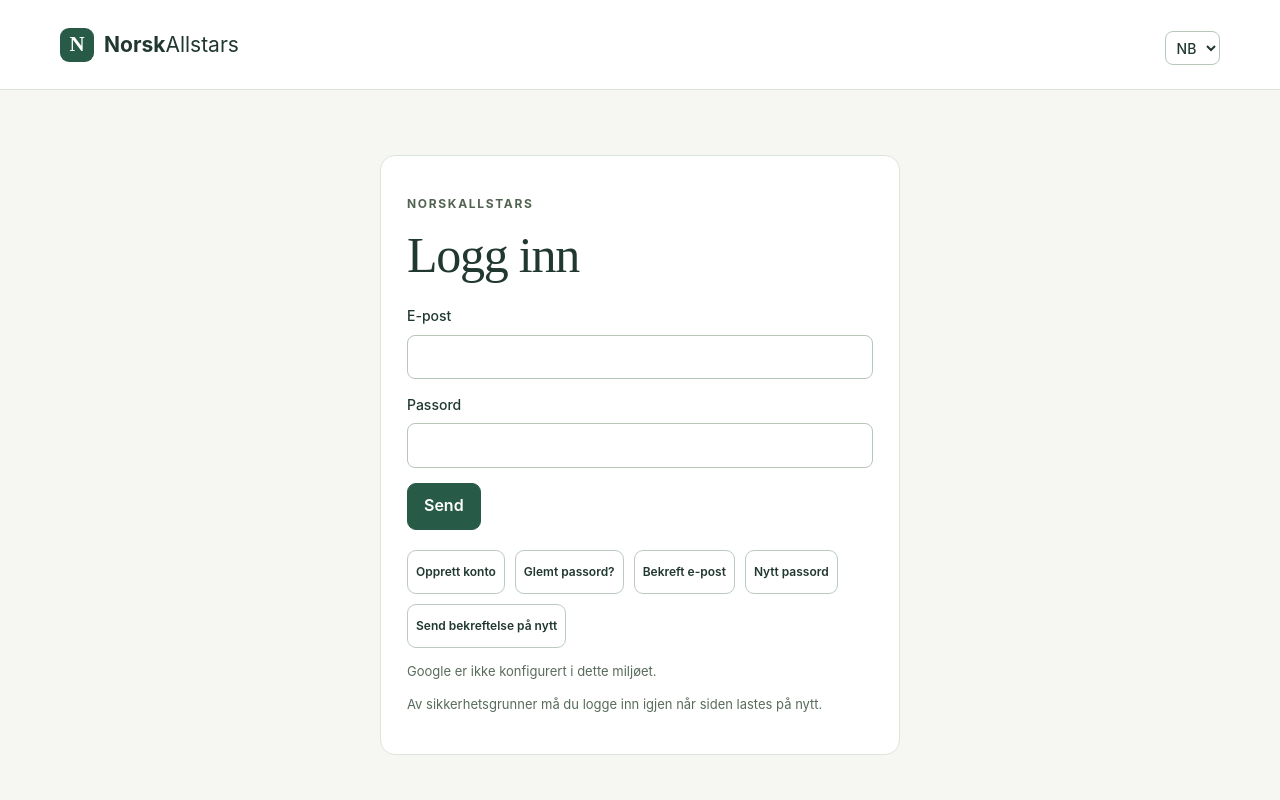
Test: dashboard learning-time presentation › shows 0 min for 59 recorded seconds (1 timed attempts)
This screenshot has width=1280, height=800.
Type "synthetic@example.com" into the field labelled "E-post" at (640, 357), box [407,335,873,379]
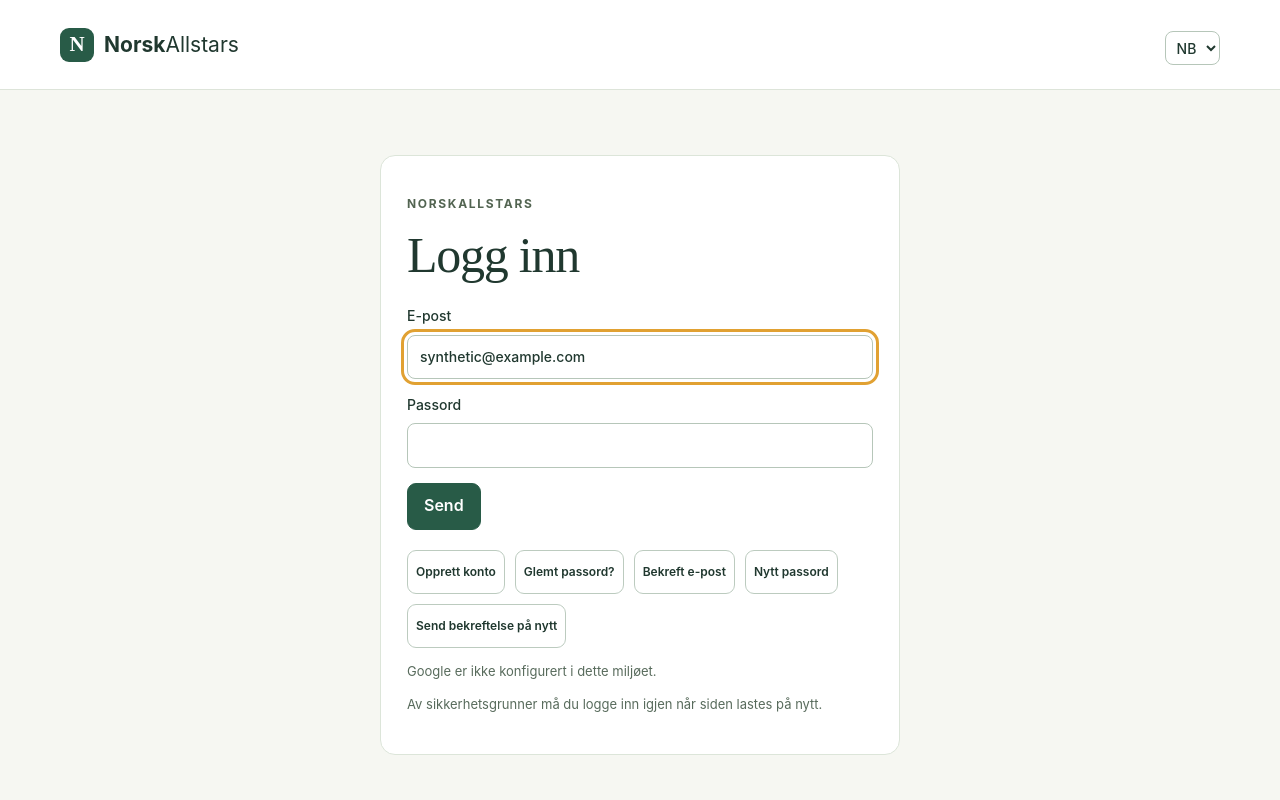
Type "synthetic-test-only-password" into the password field labelled "Passord" at (640, 446), box [407,423,873,468]
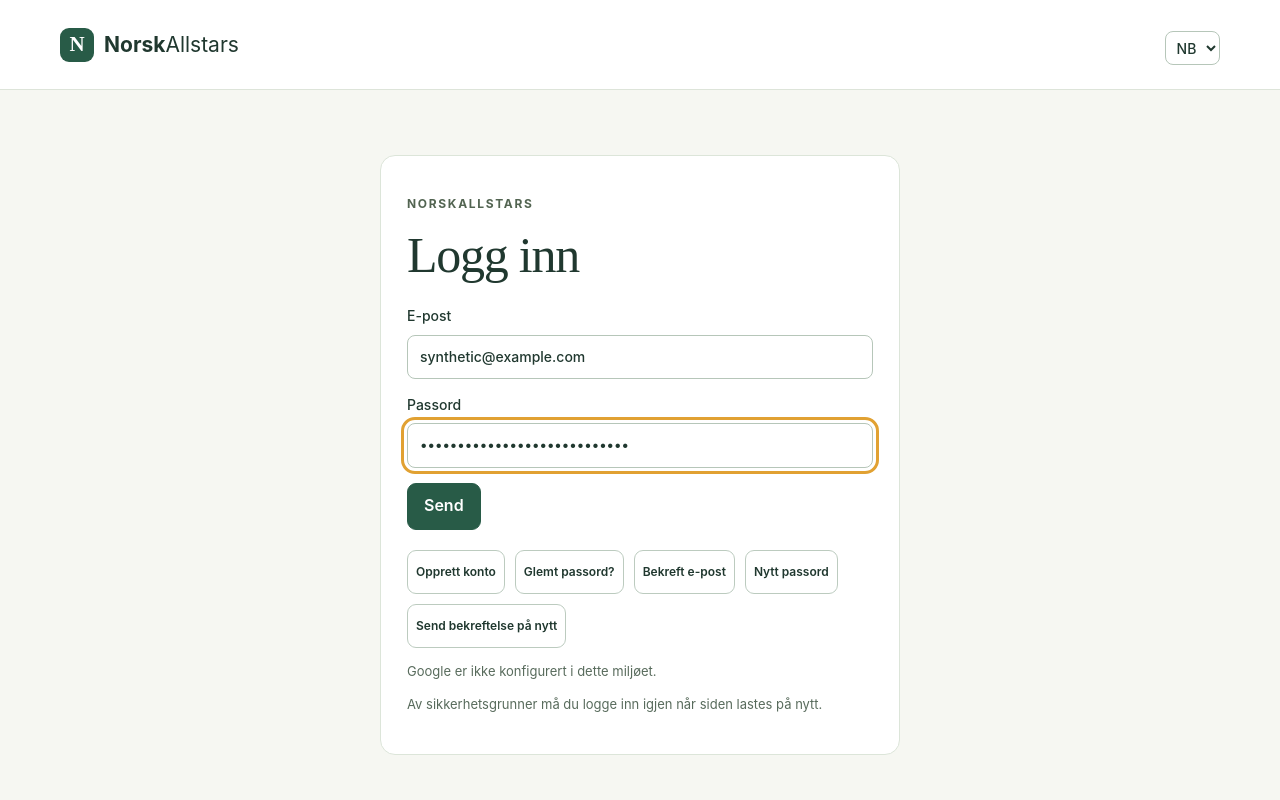
Click the button "Send" at (444, 506), box [407,483,481,530]
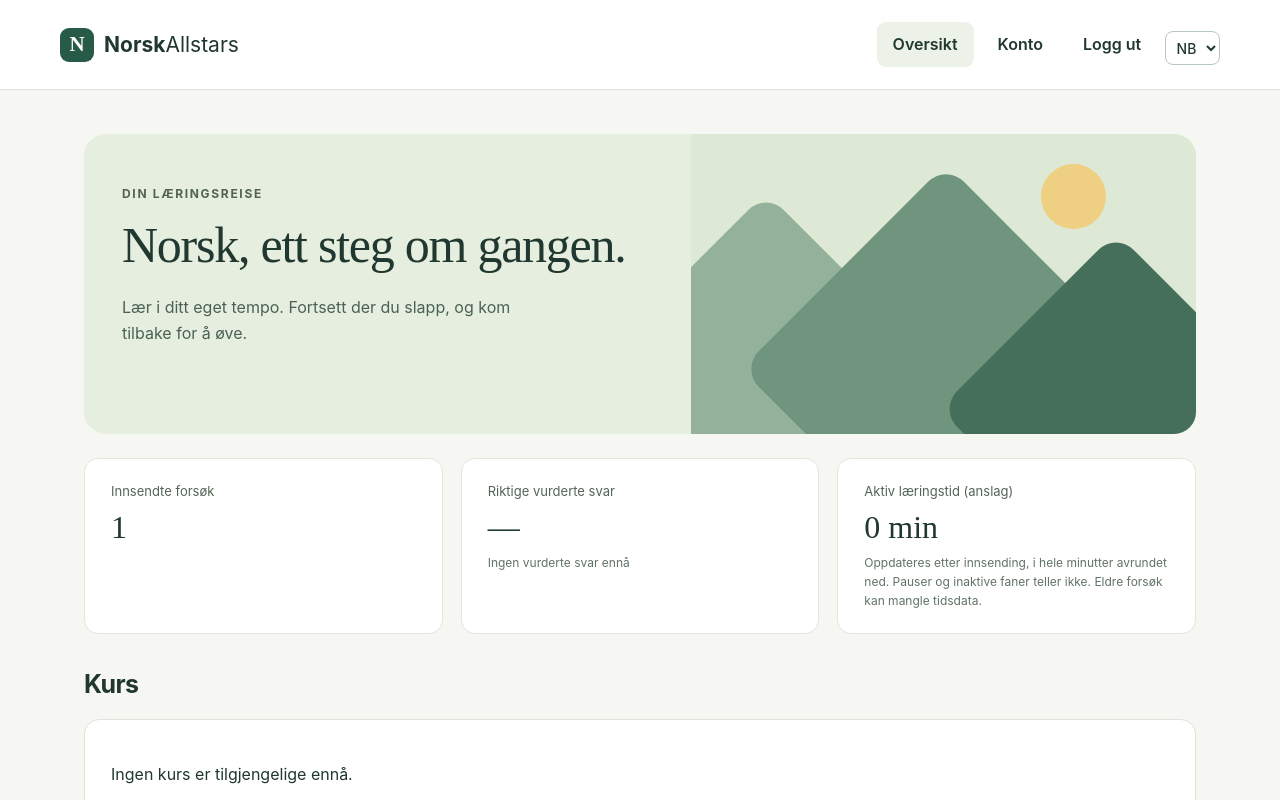
Check: the text "0 min" is shown, box [864,509,938,545]
Check: the text "Oppdateres etter innsending" is shown, box [864,555,1167,608]
